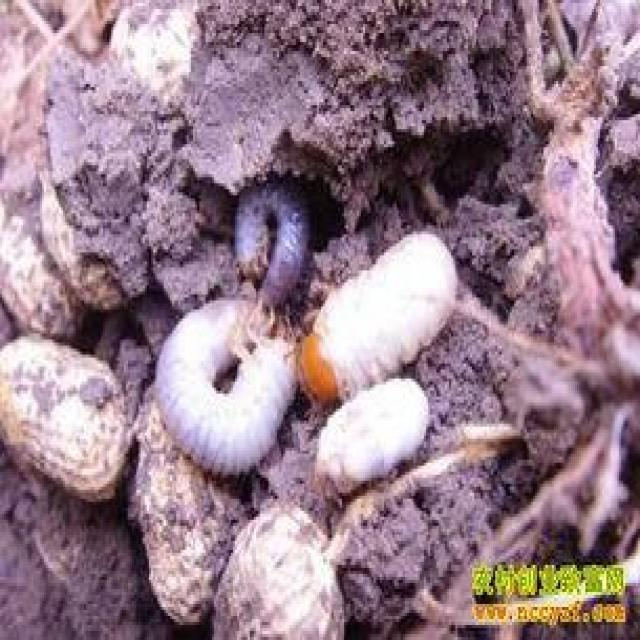Grub-Adult-: (138, 268, 302, 490), (217, 166, 314, 308)
